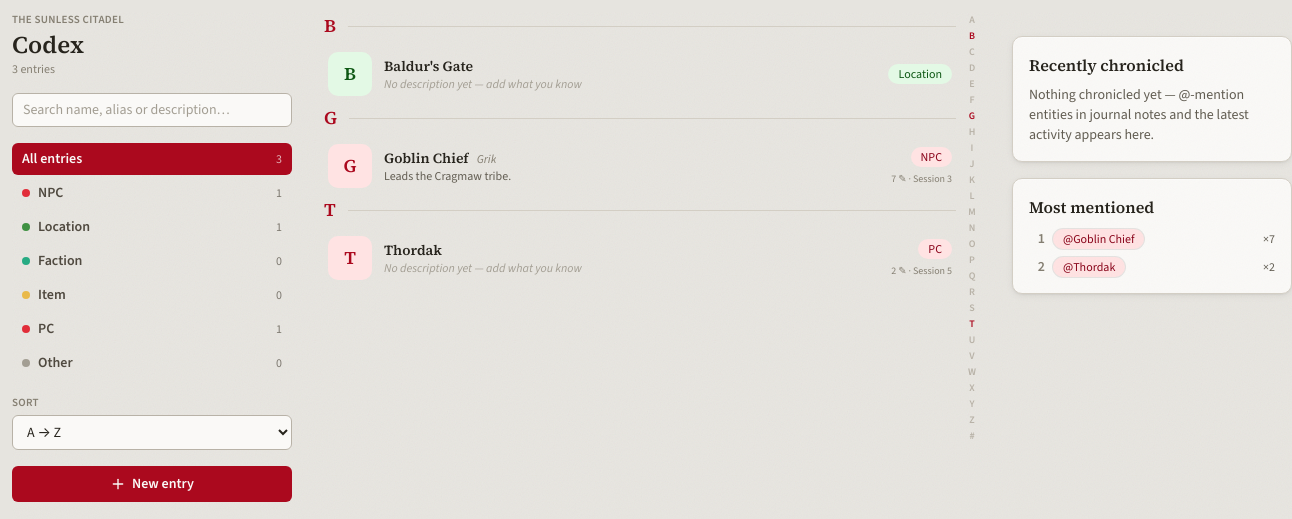
Test: CampaignCodex mention sorts (#853) › restores letter dividers and the jump rail when switching back to A→Z
Select "Most mentioned" in the dropdown labelled "Sort" at (152, 432), box 12,415 -> 292,450
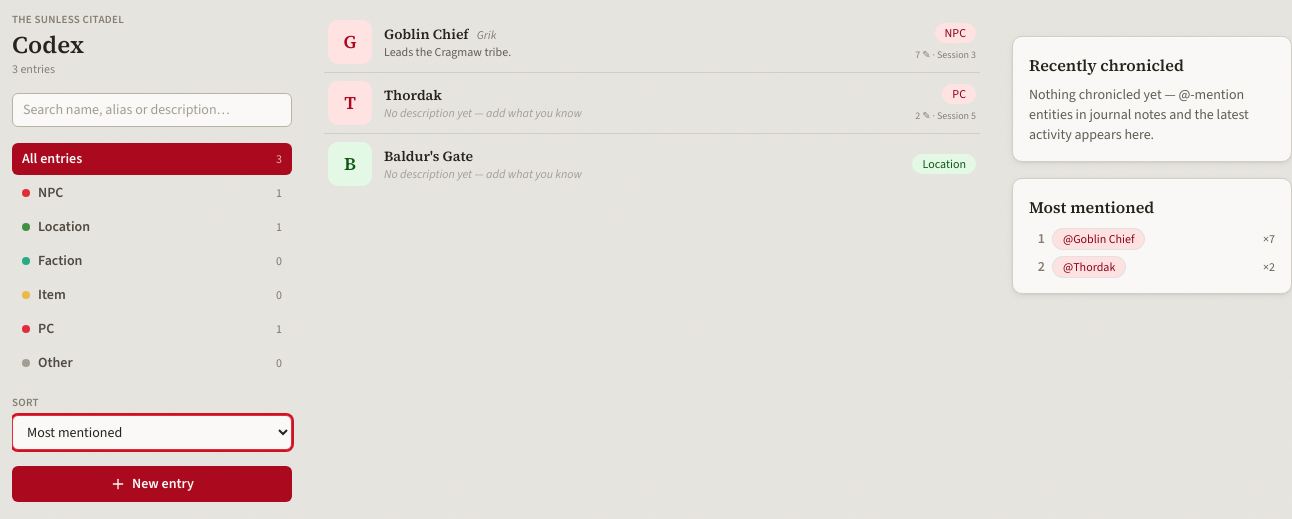
Select "A → Z" in the dropdown labelled "Sort" at (152, 432), box 12,415 -> 292,450
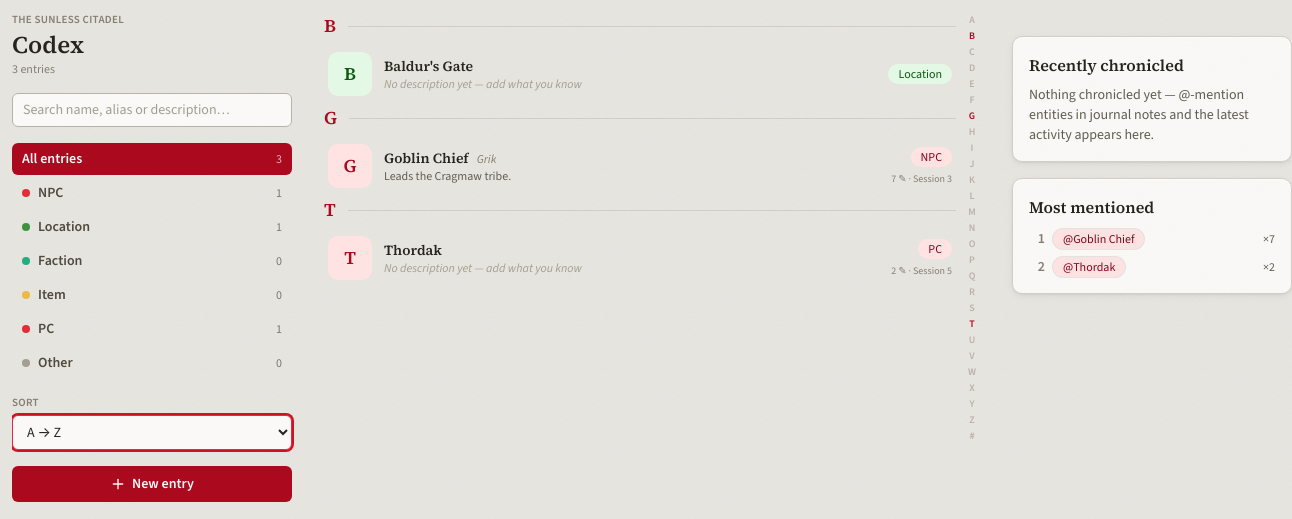
Now the navigation bar named "jump to letter" is shown, box 964,12 -> 980,444
